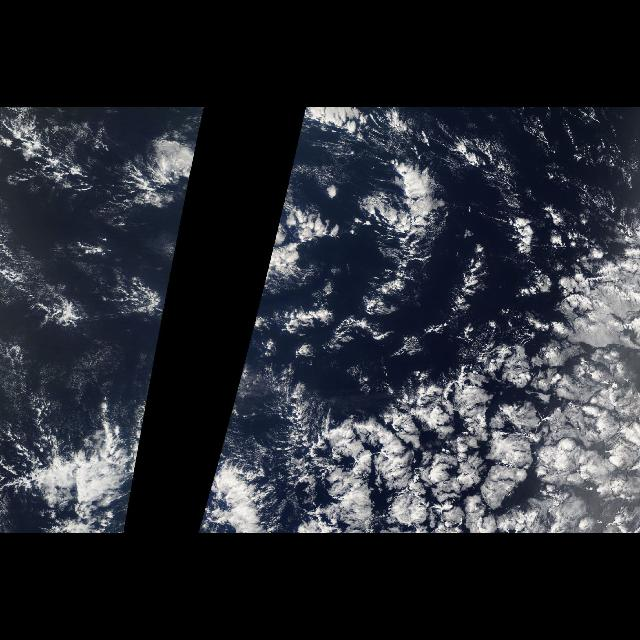Fish: (354, 156, 490, 348)
Flower: (255, 259, 640, 533)
